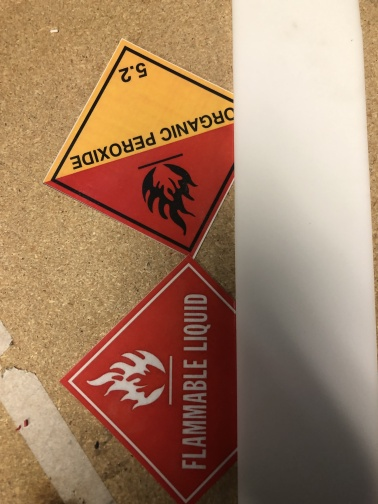FlammableLiquid: (60, 257, 236, 504)
OrganicPeroxide: (41, 36, 233, 257)
